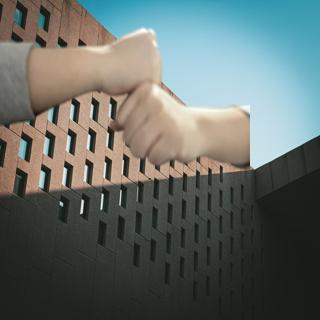CAREFUL: (40, 27, 242, 163)
